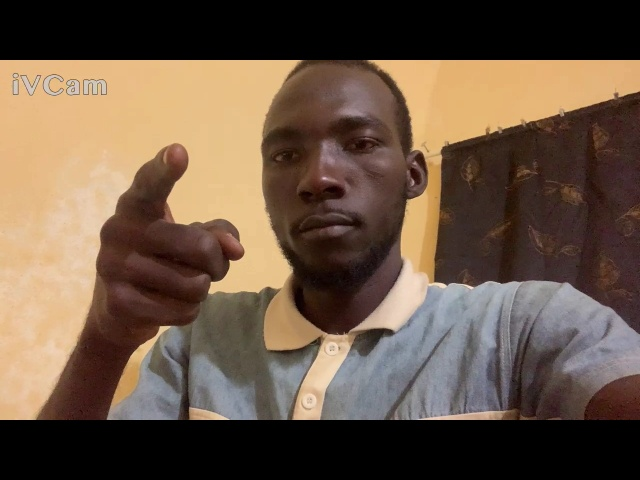tu: (80, 141, 248, 350)
